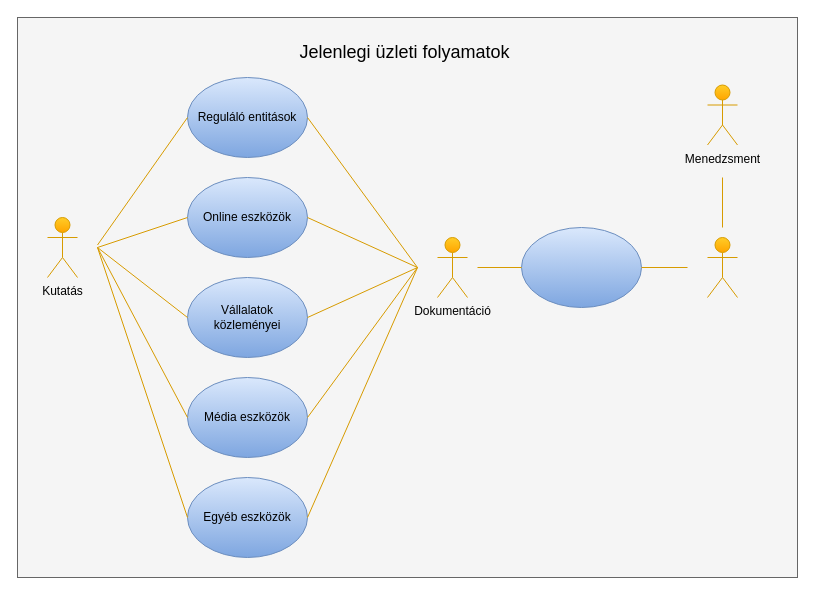
Some shapes in this 815 by 595 pixel diagram are drawn without their labels. The shapes that lost their labels are listed below. From the top down, each one's centre as x and y in pixels, then its label:
At (581,267): "Fizikai dokumentáció".
At (722,267): "Értékelés".
